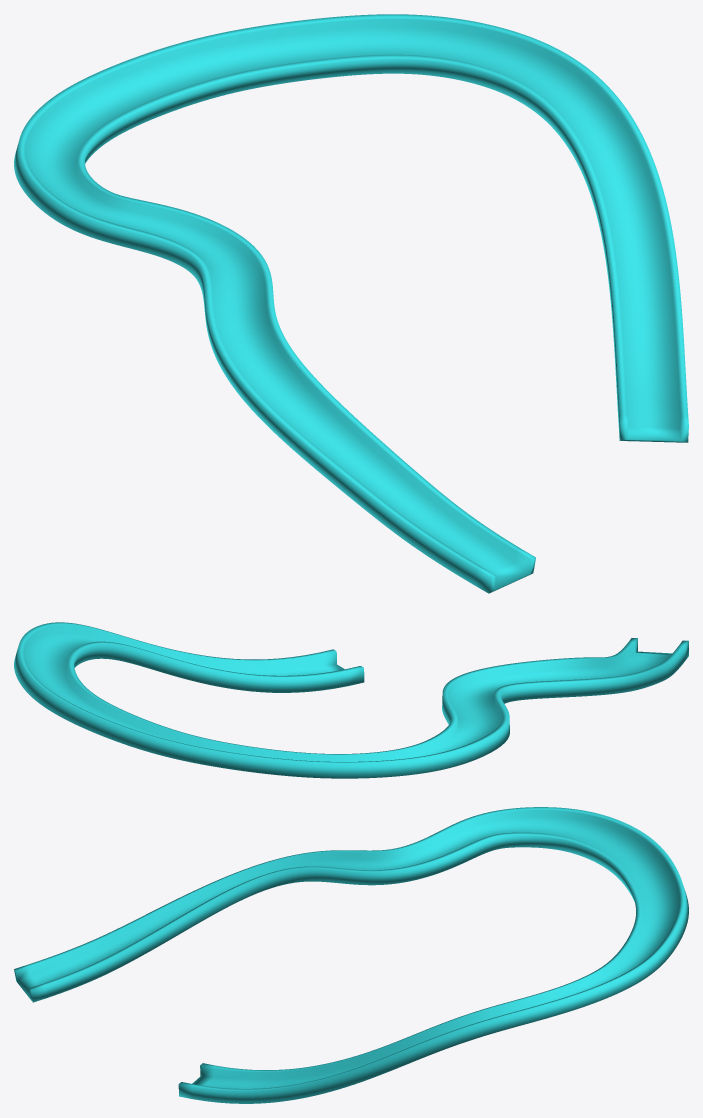
The model's file is Slide.fbx.
The picture shows the model from 3 angles, top to bottom: view 1: azimuth 30°, elevation 25°; view 2: azimuth 150°, elevation 25°; view 3: azimuth 270°, elevation 25°; orthographic projection. The views are drawn at different scales.
Visible parts, largest first — view 1: Slide; view 2: Slide; view 3: Slide.
Boxes of the visible parts, bbox=[...] form: Slide: bbox=[14, 14, 688, 593]; Slide: bbox=[14, 622, 688, 778]; Slide: bbox=[14, 807, 688, 1103].
Size of the model in its own units: 2173 by 722 by 3075.
